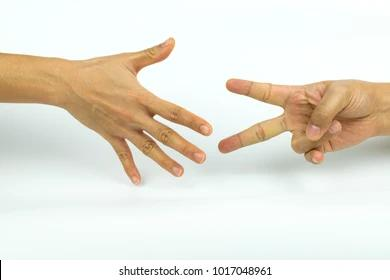paper: (70, 37, 213, 185)
scissors: (217, 76, 380, 162)
